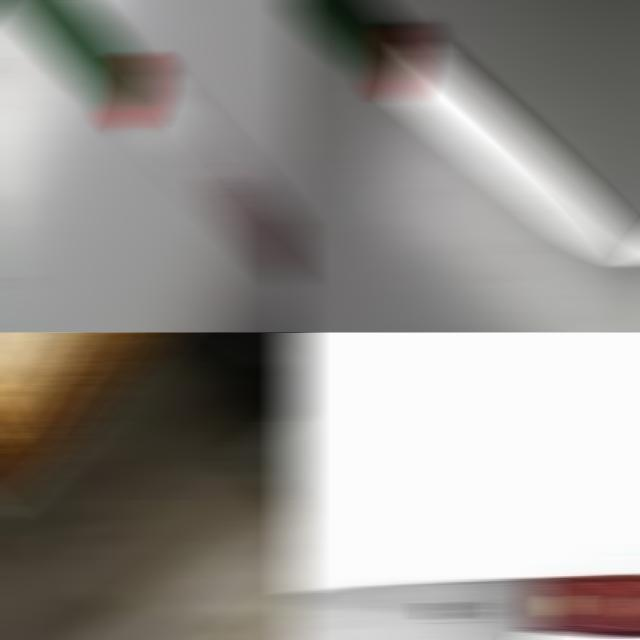Knife: (285, 0, 640, 266), (3, 0, 303, 286), (285, 573, 640, 640)
